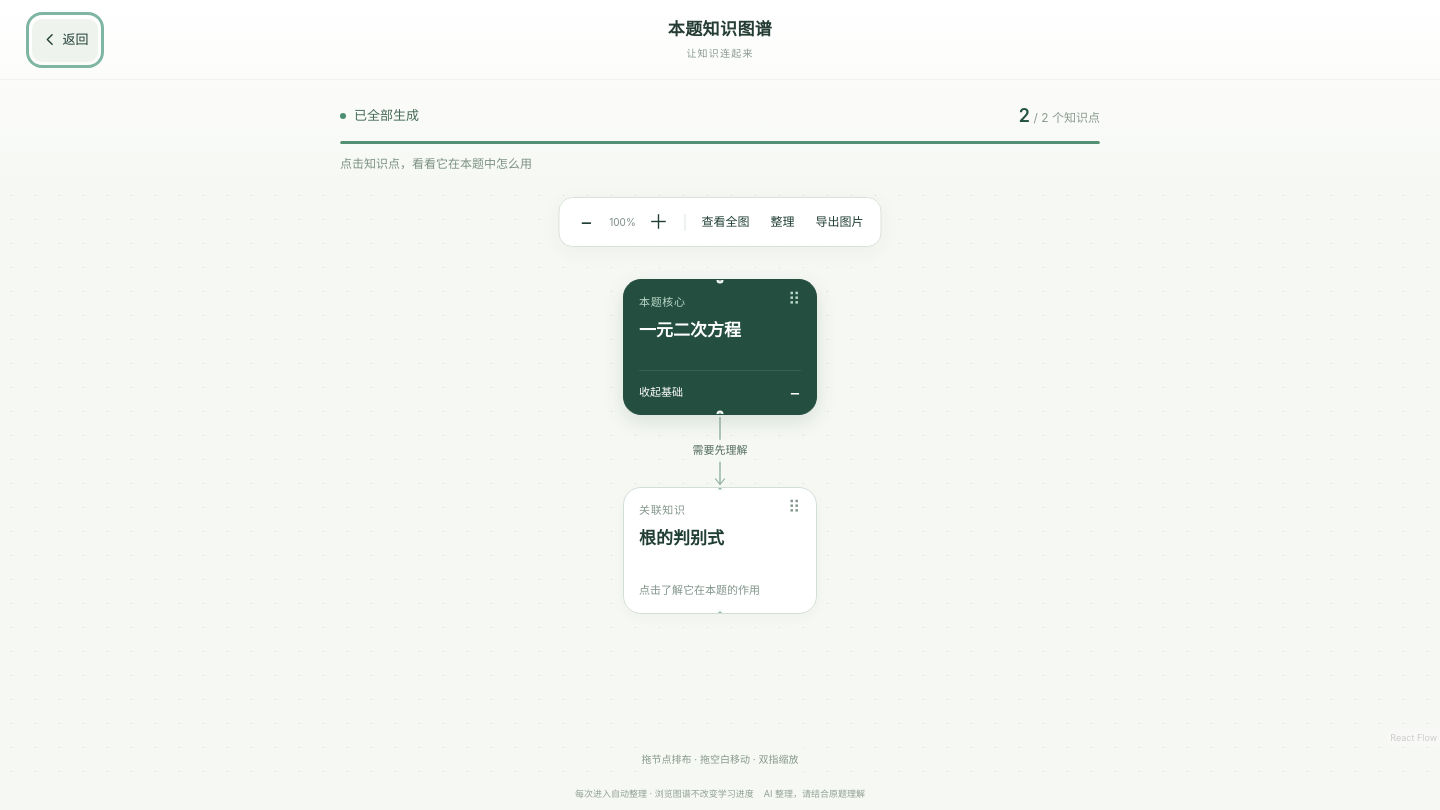
ProblemKnowledgeMapPage › 详情失败时仍可浏览图谱，并允许单独重试说明
Click the text "根的判别式" at (682, 538), box [639,528,724,548]
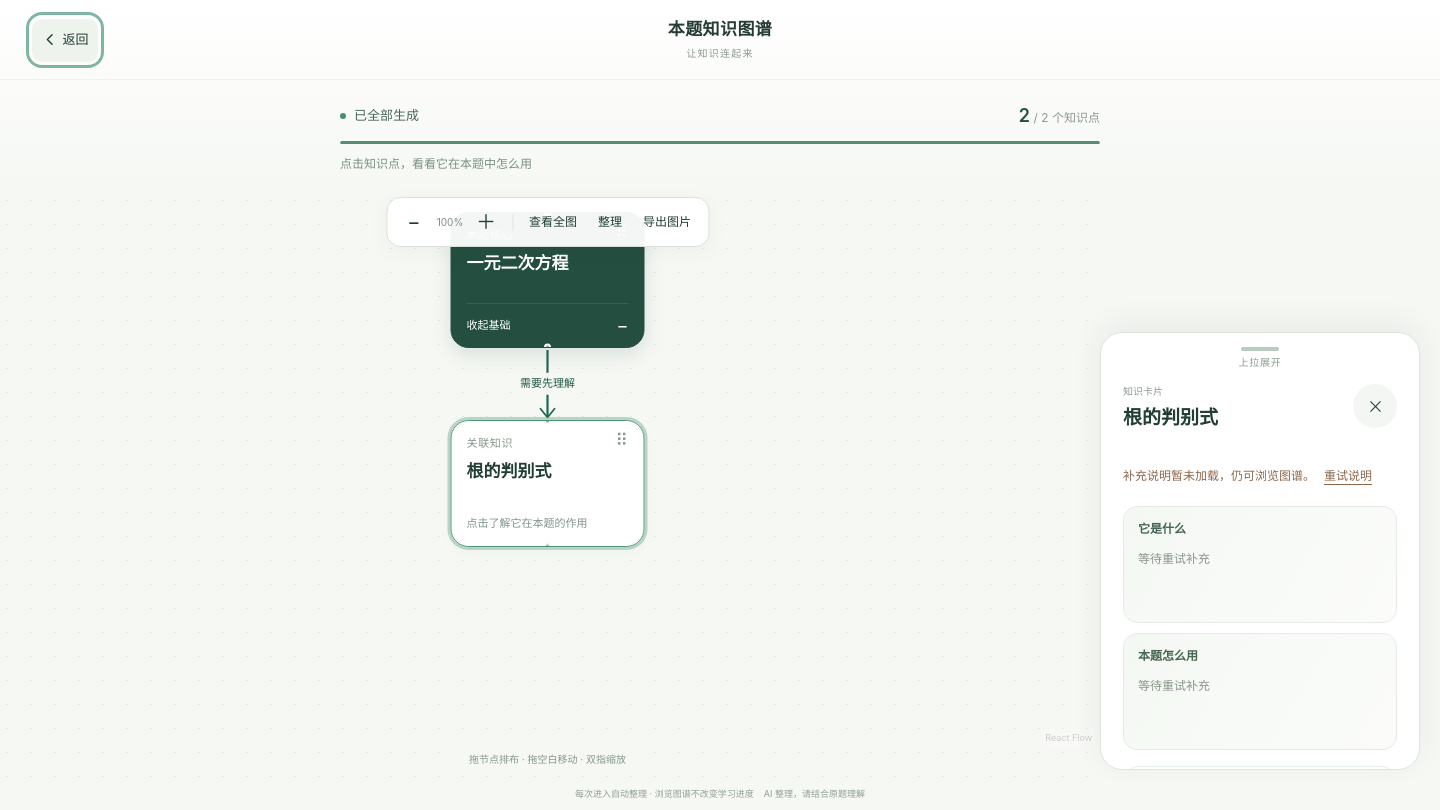
expect the text "补充说明暂未加载，仍可浏览图谱。" is shown: met, box [1123,466,1315,485]
Click the button "重试说明" at (1348, 476), box [1324,454,1372,498]
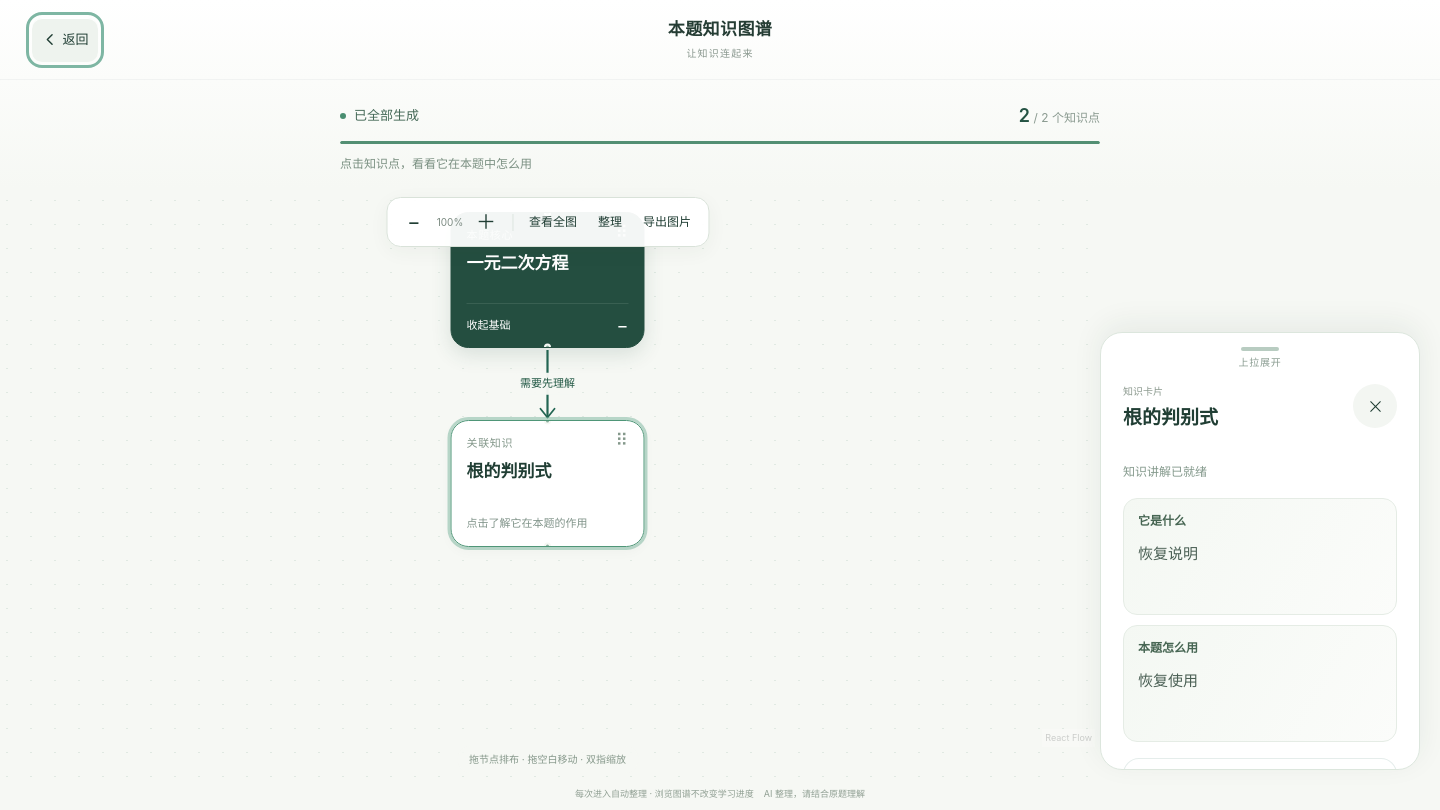
expect the text "恢复说明" is shown: met, box [1138,544,1198,563]
